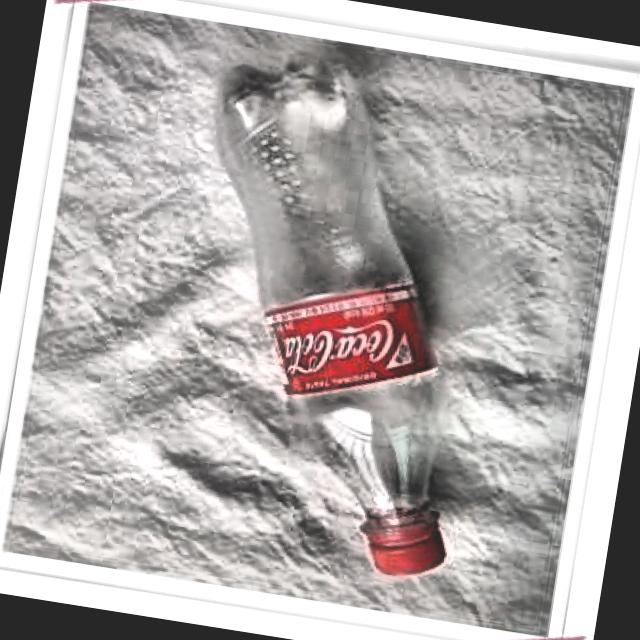plastic bottle: (216, 41, 445, 577)
